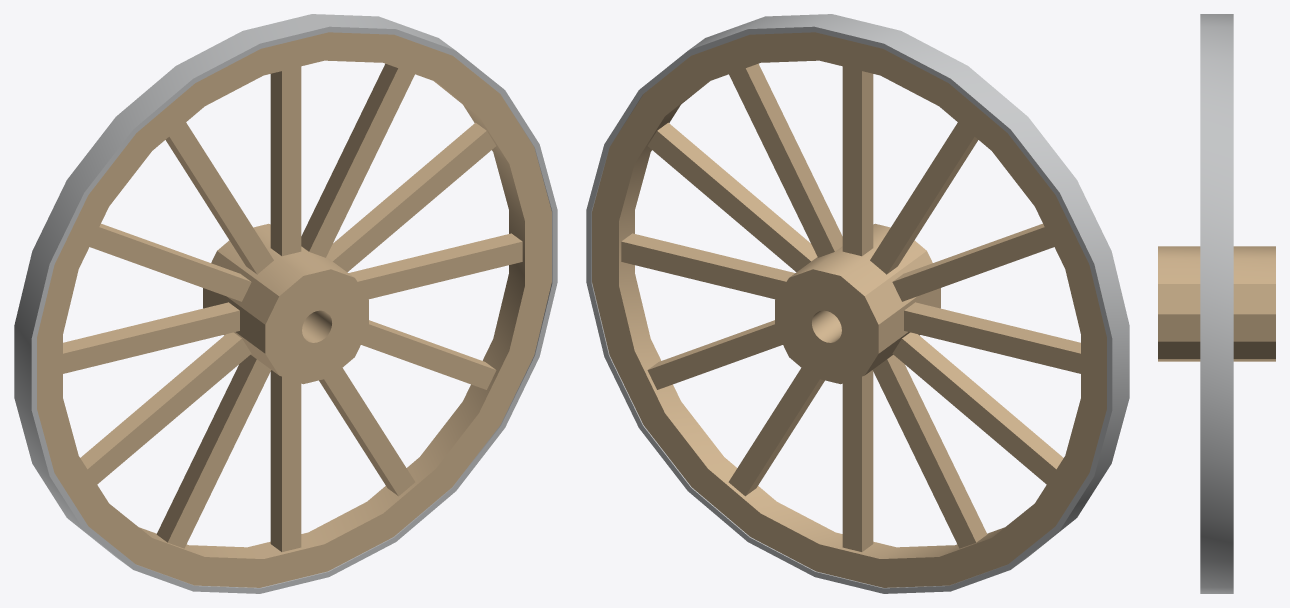
Rendered from wagon_wheel.glb.
3 renders of one model, left to right at view 1: azimuth 30°, elevation 25°; view 2: azimuth 150°, elevation 25°; view 3: azimuth 270°, elevation 25°, orthographic. The views are drawn at different scales.
Visible parts, largest first — view 1: felloe, tire, hub, spoke_2, spoke_8, spoke_7, spoke_1, spoke_3, spoke_6, spoke_9, spoke_0, spoke_4 (+3 smaller); view 2: felloe, tire, hub, spoke_2, spoke_8, spoke_7, spoke_1, spoke_3, spoke_6, spoke_9, spoke_0, spoke_4 (+3 smaller); view 3: tire, hub.
Part boxes in pixels (x1,y1,x2,y2): felloe: (37, 32, 551, 587); tire: (14, 14, 557, 593); hub: (203, 223, 368, 384); spoke_2: (301, 63, 414, 257); spoke_8: (156, 355, 270, 548); spoke_7: (80, 332, 251, 484); spoke_1: (326, 122, 496, 272); spoke_3: (270, 66, 301, 256); spoke_6: (63, 302, 239, 373); spoke_9: (270, 370, 301, 551); spoke_0: (349, 233, 522, 299); spoke_4: (165, 122, 273, 274); felloe: (592, 32, 1106, 587); tire: (586, 14, 1129, 593); hub: (775, 223, 940, 384); spoke_2: (729, 63, 842, 257); spoke_8: (873, 355, 987, 548); spoke_7: (892, 332, 1063, 484); spoke_1: (647, 122, 817, 272); spoke_3: (842, 66, 873, 256); spoke_6: (904, 302, 1080, 373); spoke_9: (842, 370, 873, 551); spoke_0: (621, 233, 794, 299); spoke_4: (870, 122, 978, 274); tire: (1200, 14, 1233, 593); hub: (1158, 246, 1275, 361).
Size of the model in its own units: 1.22 by 1.22 by 0.25.
